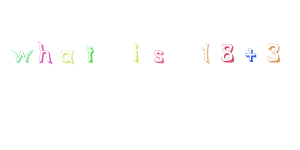+: (244, 48, 257, 62)
1: (200, 42, 211, 63)
3: (267, 42, 280, 63)
8: (221, 43, 235, 64)
a: (59, 48, 75, 63)
h: (37, 40, 52, 63)
i: (131, 41, 141, 62)
s: (152, 49, 164, 63)
t: (85, 45, 95, 63)
w: (11, 48, 34, 64)
